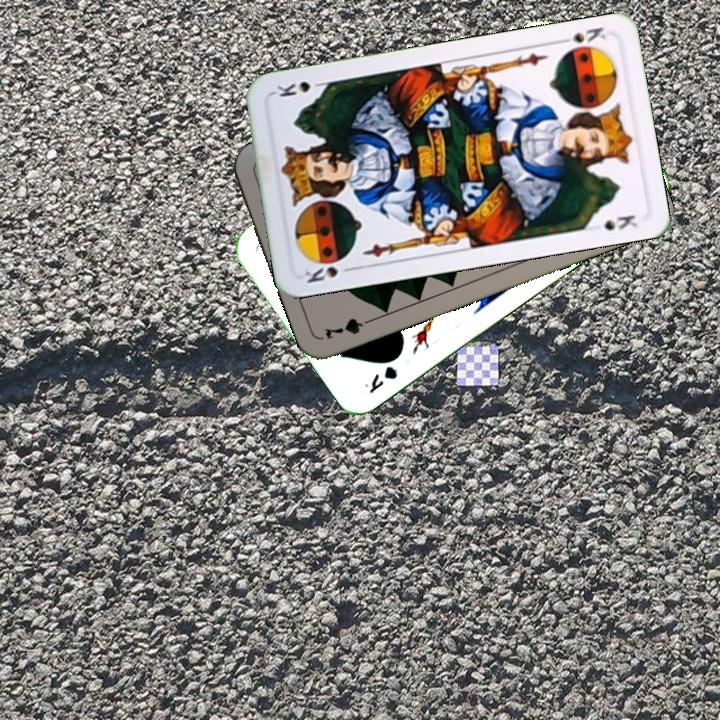G7: (320, 313, 378, 342)
GK: (360, 361, 401, 397)
SK: (553, 22, 608, 56), (300, 262, 358, 286)
